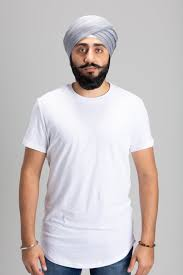helmet: (61, 15, 119, 90)
